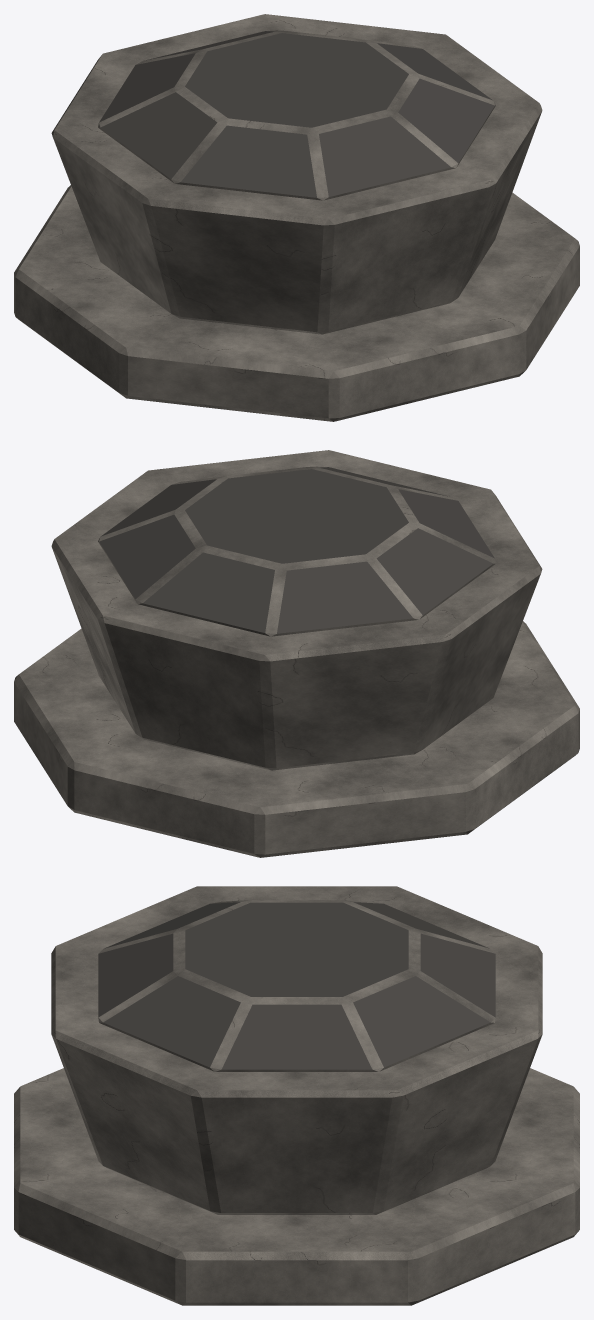
The model's file is shrine.glb.
The picture shows the model from 3 angles, top to bottom: view 1: azimuth 30°, elevation 25°; view 2: azimuth 150°, elevation 25°; view 3: azimuth 270°, elevation 25°; orthographic projection. The views are drawn at different scales.
Parts seen in each view (by area): view 1: shrine; view 2: shrine; view 3: shrine.
Boxes of the visible parts, x1,y1,x2,y2 form: shrine: [14, 14, 579, 421]; shrine: [14, 450, 579, 857]; shrine: [14, 886, 579, 1305].
Size of the model in its own units: 1.33 by 0.62 by 1.33.
3 materials, 2 textured.
